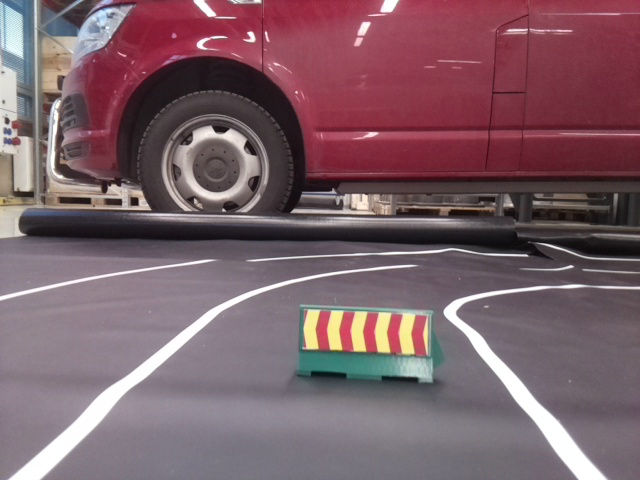ClosedRoadStand: (301, 306, 435, 380)
